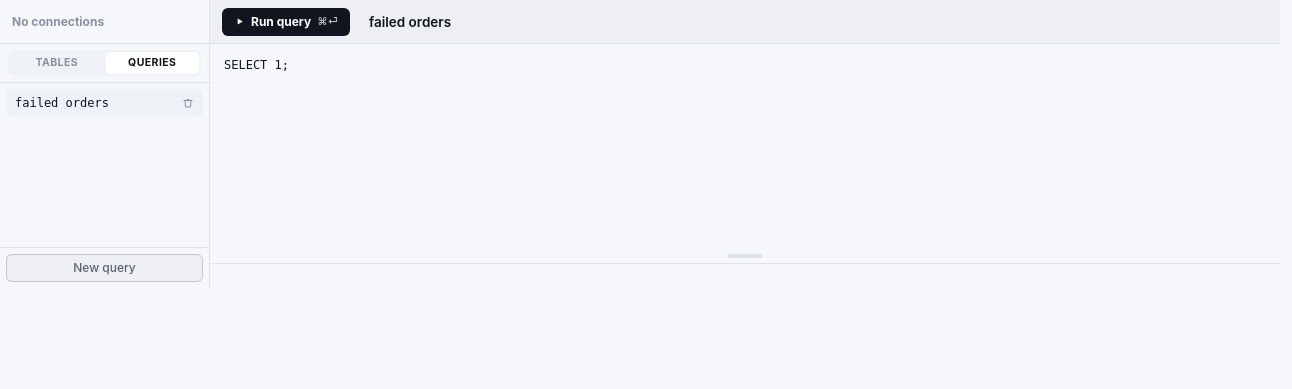
Test: QueryTab › clears the result when the SQL changes, since it no longer describes what would run
Click the button "Run query ⌘⏎": (286, 22) [222,8,350,36]
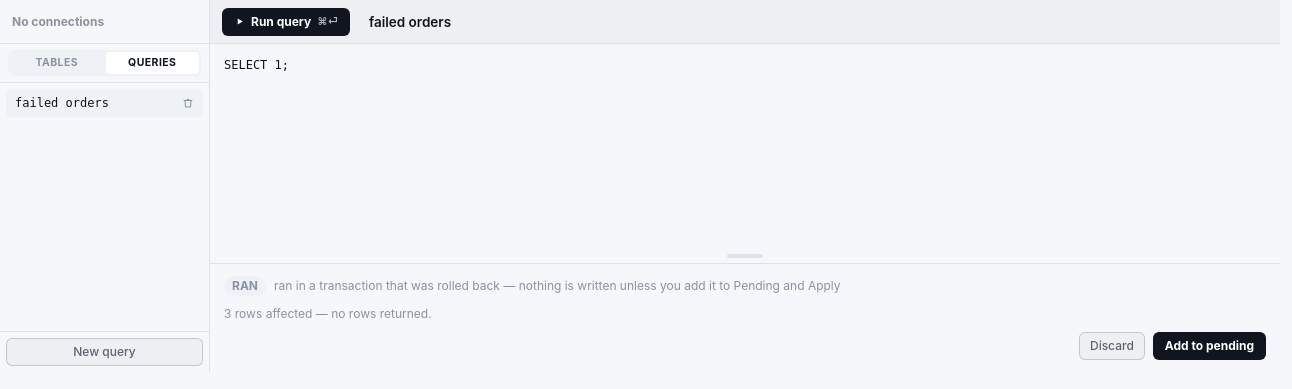
Expected: the text "3 rows affected — no rows returned." is shown, [224,306,432,321]
Replace the text in the text box named "SQL" with "SELECT 2;": (745, 154) [210,44,1280,263]
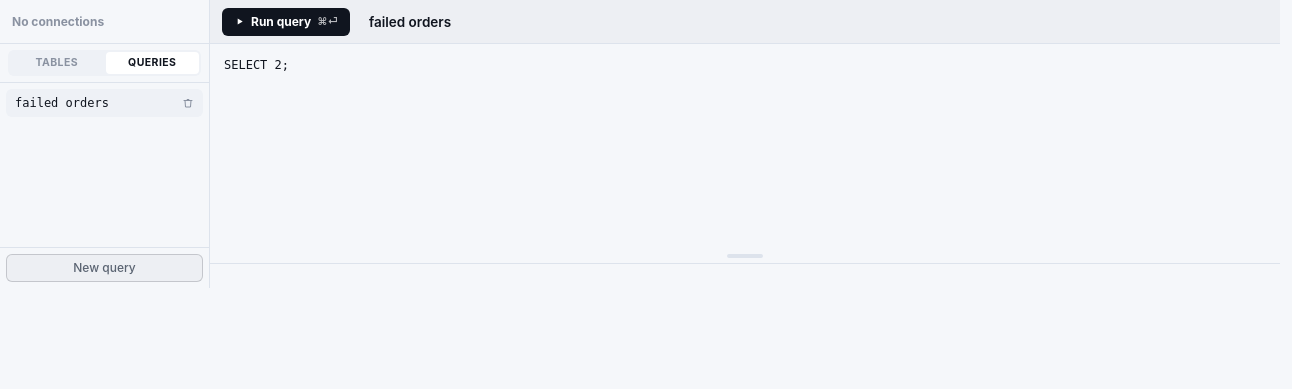
Expected: the text "3 rows affected" is gone
Expected: the button "Add to pending" is gone
